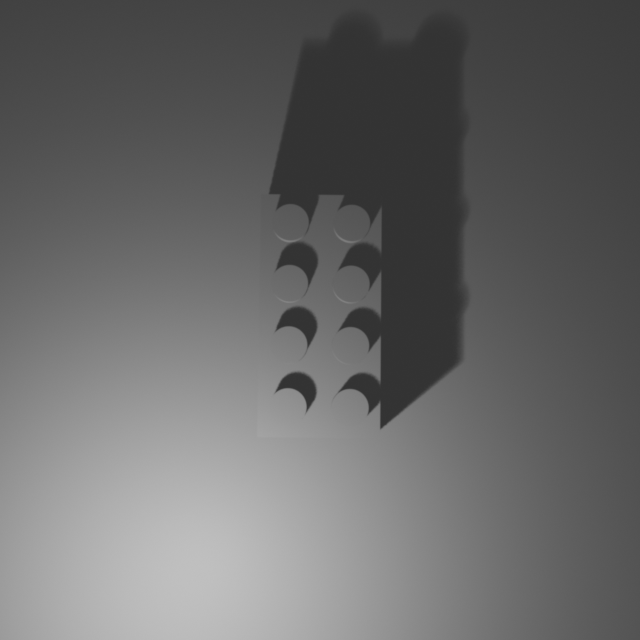lego_2x4: (256, 192, 383, 439)
